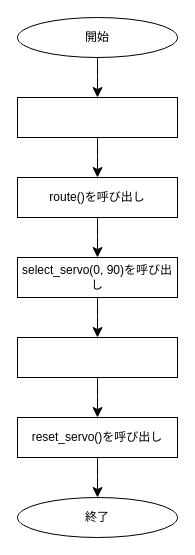
The diagram is 195 pixels wide and 555 high, and some of its shapes have lost their labels. The shapes that lost their labels are listed below. From the top down, each one's centre as x and y in pixels, then its label:
the point at 97,117: 1000ms待機
the point at 97,357: DELAY_TIME ms待機
